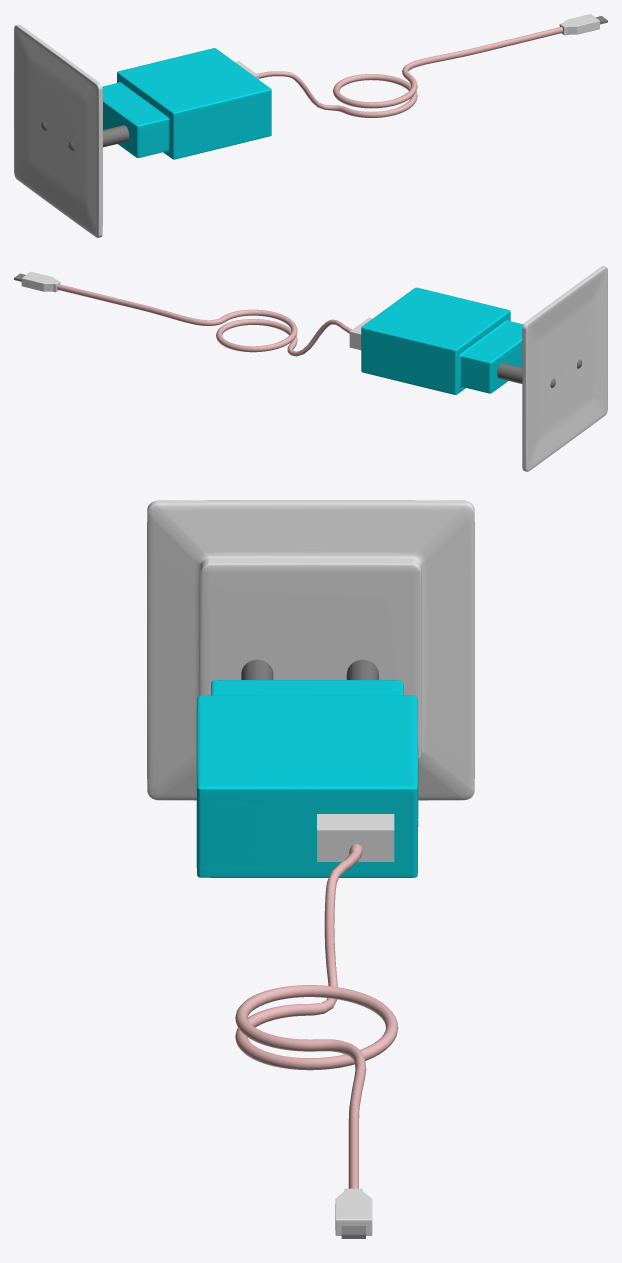
Rendered from charger new.fbx.
3 renders of one model, top to bottom at view 1: azimuth 30°, elevation 25°; view 2: azimuth 150°, elevation 25°; view 3: azimuth 270°, elevation 25°, orthographic. The views are drawn at different scales.
Parts seen in each view (by area): view 1: polySurface43, polySurface1, pHelix2, polySurface3; view 2: polySurface43, polySurface1, pHelix2, polySurface3; view 3: polySurface1, polySurface43, pHelix2, polySurface3.
Part boxes in pixels (x1,y1,x2,y2): polySurface43: (41, 48, 271, 159); polySurface1: (14, 24, 102, 237); pHelix2: (257, 26, 563, 117); polySurface3: (559, 14, 607, 35); polySurface43: (349, 287, 581, 394); polySurface1: (522, 266, 607, 471); pHelix2: (57, 284, 352, 356); polySurface3: (14, 271, 60, 292); polySurface1: (147, 500, 474, 800); polySurface43: (196, 659, 418, 877); pHelix2: (235, 844, 398, 1188); polySurface3: (335, 1188, 372, 1238).
Size of the model in its own units: 1126 by 370 by 296.
